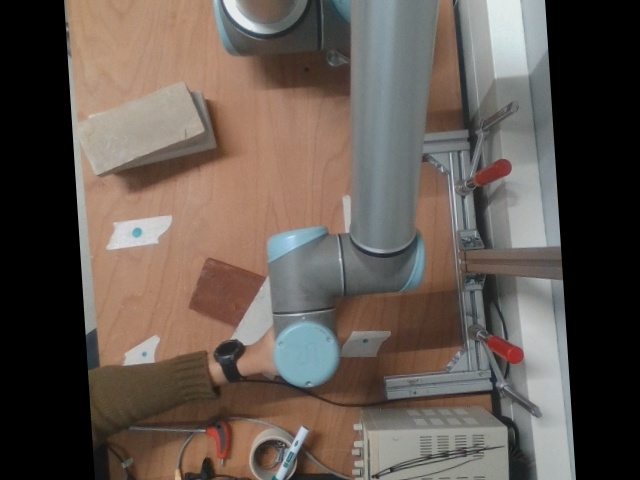brick: (77, 82, 199, 171)
